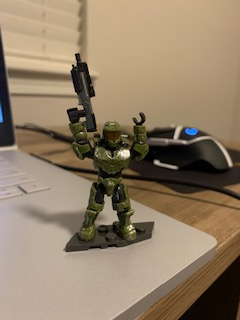chief: (64, 106, 149, 240)
rifle: (66, 51, 100, 135)
spartan: (62, 104, 147, 238)
up: (66, 107, 149, 175)
